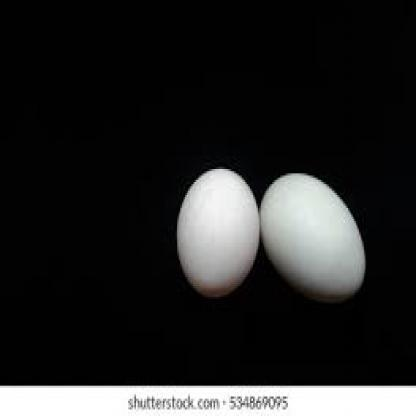egg: (260, 171, 366, 302), (176, 166, 260, 298)
